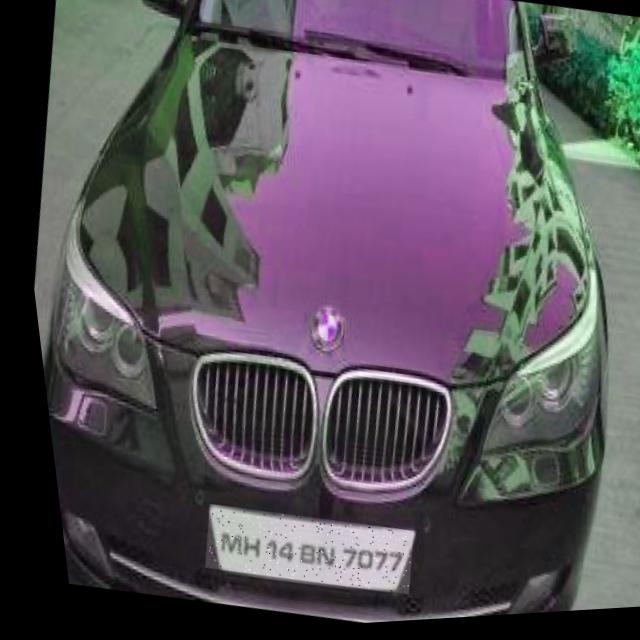license_plate: (184, 496, 406, 608)
